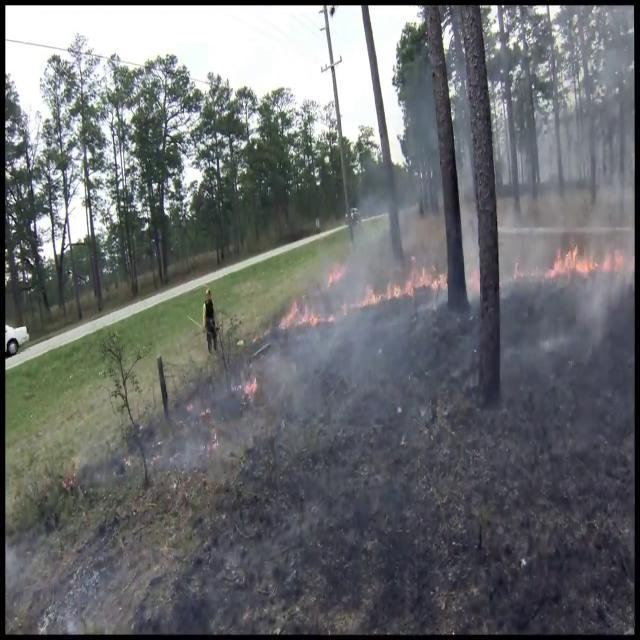Fire: (544, 231, 630, 286), (370, 256, 448, 306), (280, 290, 320, 334)
Smoke: (264, 158, 442, 452)
